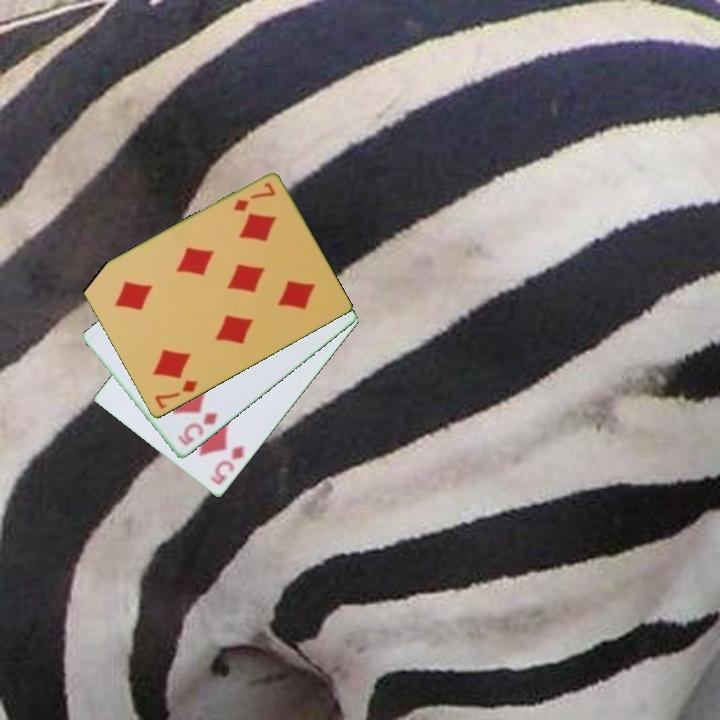5d: (205, 442, 247, 488), (174, 409, 221, 449)
7d: (230, 179, 278, 215), (151, 377, 200, 412)
